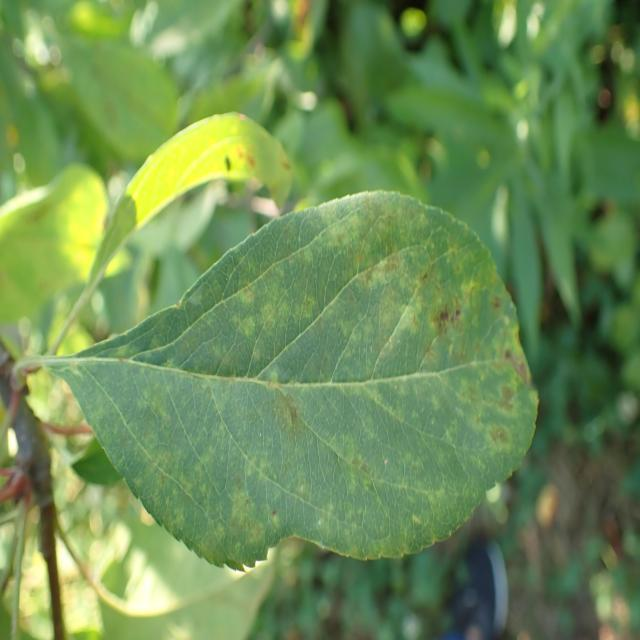scab: (54, 186, 541, 557)
